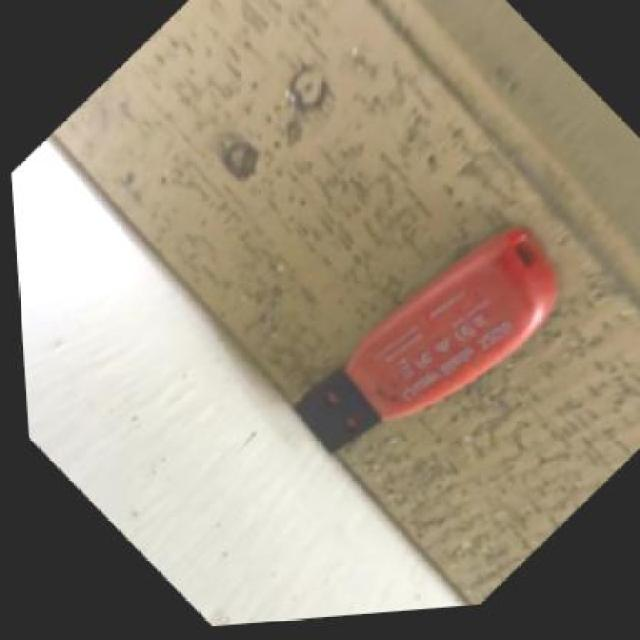Flashdisk: (244, 177, 614, 532)
